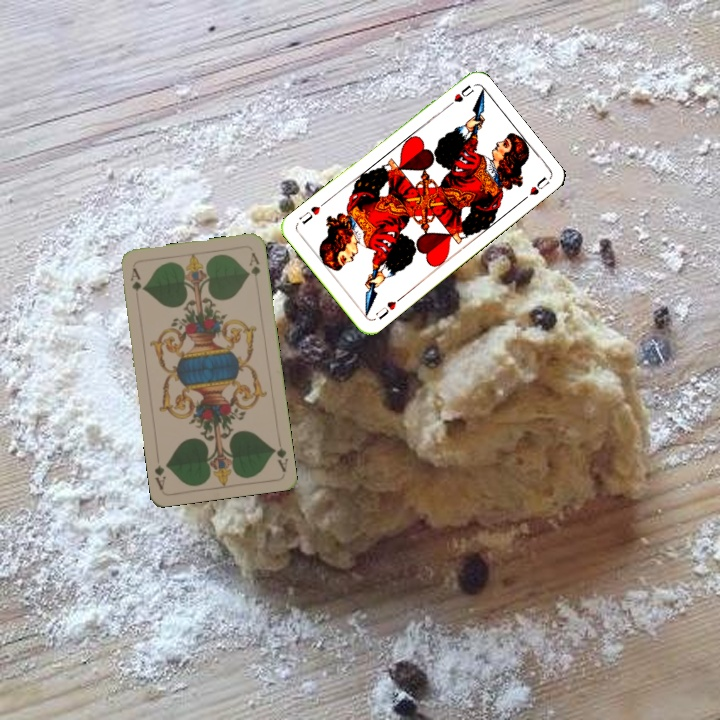GA: (126, 264, 143, 304), (269, 443, 290, 474)
HU: (441, 81, 477, 111), (372, 293, 404, 322)
